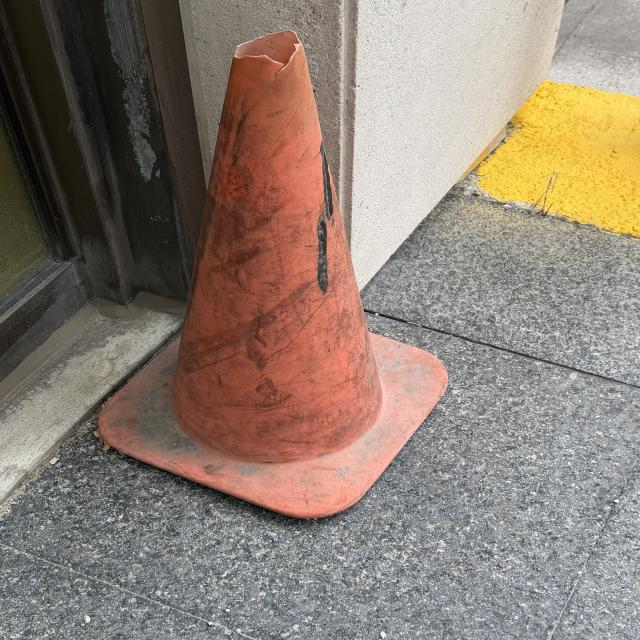Traffic Cone: (94, 34, 455, 523)
